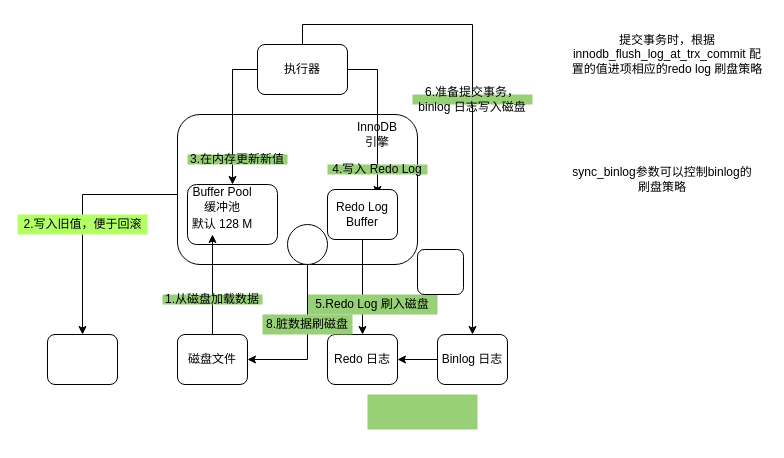
Image size: 784x458. Some labels were removed from this diagram. Here are the shapes that lost their labels. From the top down, the centre of each, then its label:
At (x=307, y=244): "IO线程".
At (x=440, y=271): "OS Cache".
At (x=82, y=359): "Undo 日志".
At (x=422, y=411): "7.将binlog更新的文件名和文件位置写入redo log，并添加commit标记".
